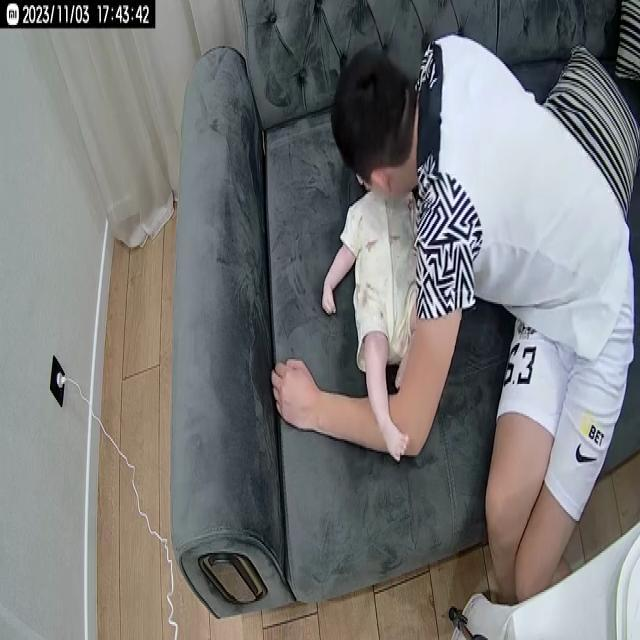baby: (318, 168, 429, 459)
